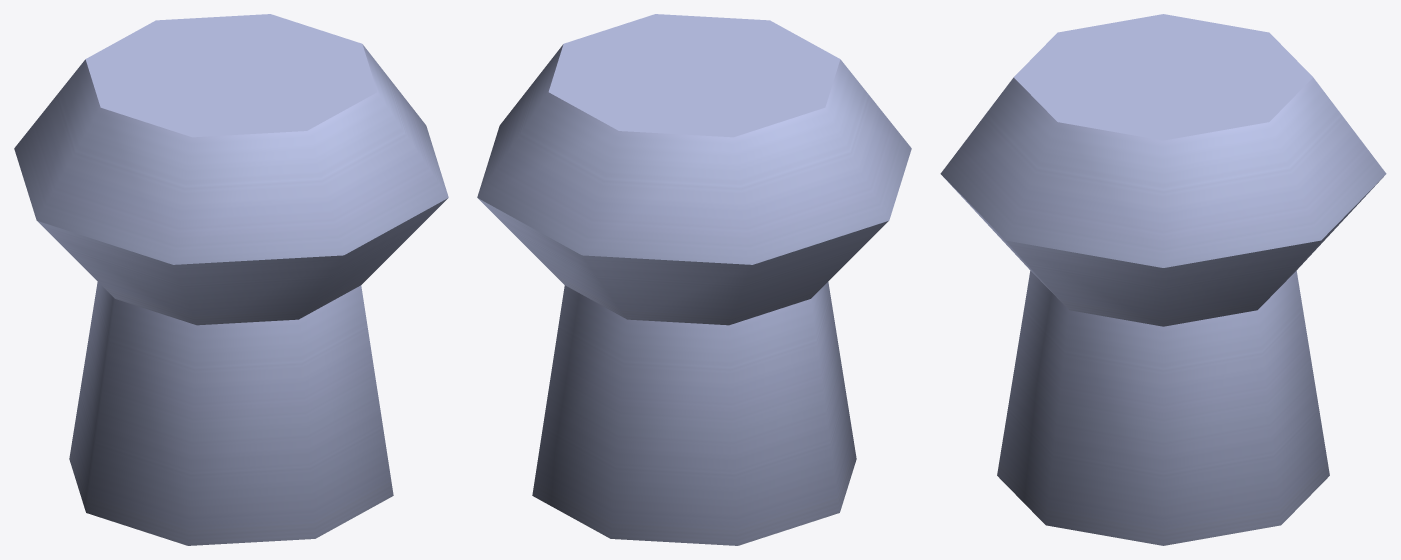
Rendered from building_detail_pipe.glb.
3 views of the same model, side by side, from view 1: azimuth 30°, elevation 25°; view 2: azimuth 150°, elevation 25°; view 3: azimuth 270°, elevation 25° (orthographic).
Visible parts, largest first — view 1: detail-pipe; view 2: detail-pipe; view 3: detail-pipe.
Boxes of the visible parts, box(x1,y1,x2,y2) form: detail-pipe: box(14, 14, 448, 545); detail-pipe: box(477, 14, 911, 545); detail-pipe: box(940, 14, 1386, 545).
Bounding box in the file's own units: 0.4342 × 0.4277 × 0.4342.
Materials: 1 (1 with a texture image).
